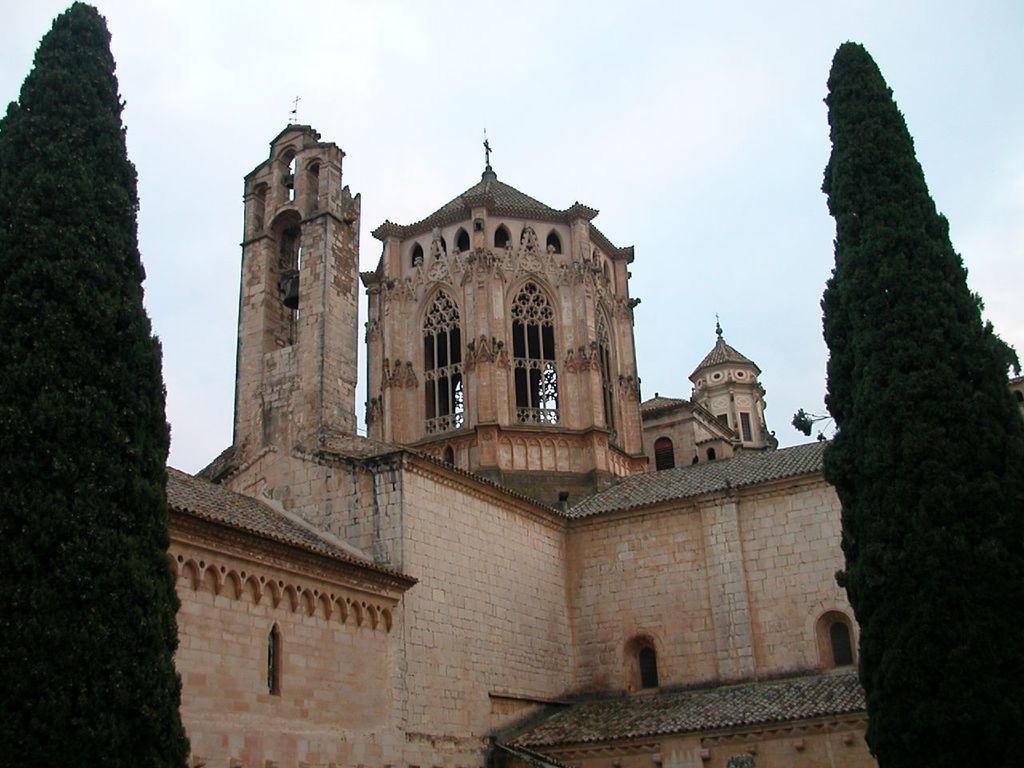Tree: (791, 39, 1023, 767), (0, 0, 191, 768)
